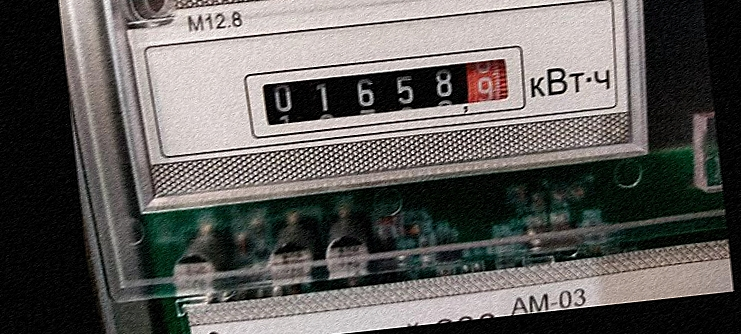0: (270, 80, 294, 114)
1: (314, 80, 330, 113)
5: (394, 72, 416, 106)
6: (354, 75, 377, 108)
8: (432, 66, 455, 100)
9: (473, 74, 494, 102)
screen: (235, 35, 533, 145)
